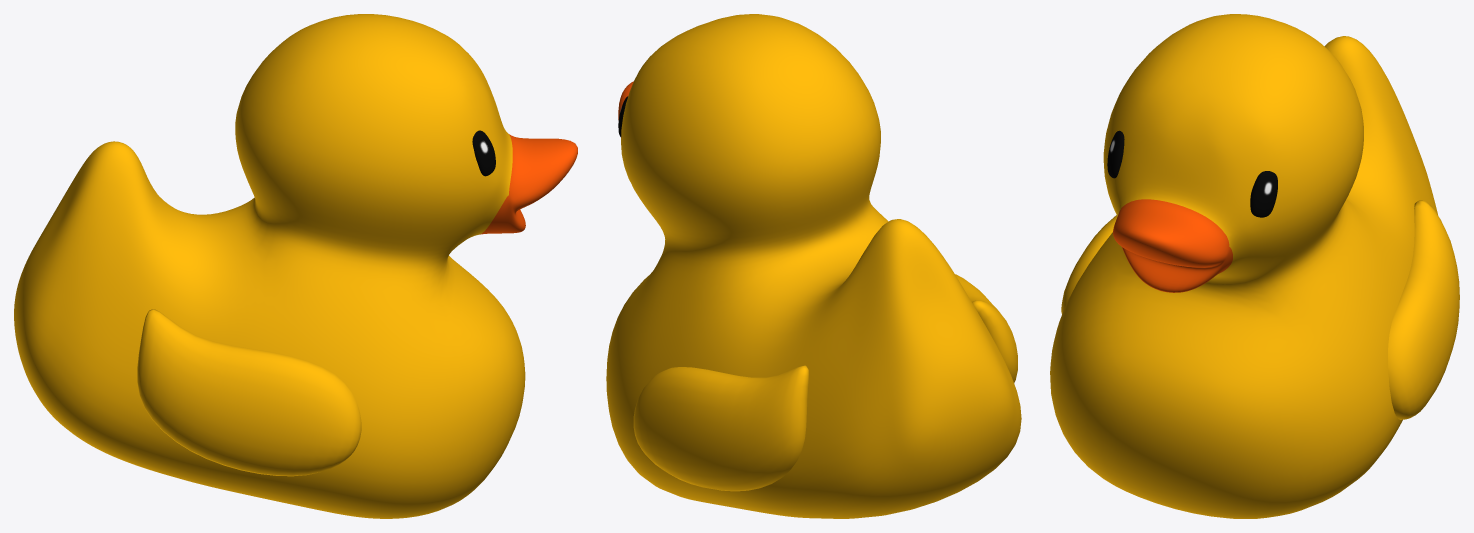
File: rubber-duck.glb
The picture shows the model from 3 angles, left to right: view 1: azimuth 30°, elevation 25°; view 2: azimuth 150°, elevation 25°; view 3: azimuth 270°, elevation 25°; orthographic projection.
Visible parts, largest first — view 1: Cube.001_0, Cube_1, Cube.002_2; view 2: Cube.001_0, Cube_1; view 3: Cube.001_0, Cube_1, Cube.002_2.
Part boxes in pixels (left/top/right/bottom): Cube.001_0: left=14, top=14, right=577, bottom=518; Cube_1: left=137, top=309, right=361, bottom=476; Cube.002_2: left=472, top=130, right=495, bottom=176; Cube.001_0: left=606, top=14, right=1021, bottom=518; Cube_1: left=633, top=274, right=1017, bottom=491; Cube.001_0: left=1050, top=14, right=1437, bottom=518; Cube_1: left=1061, top=200, right=1459, bottom=419; Cube.002_2: left=1107, top=130, right=1277, bottom=217.
Bounding box in the file's own units: 0.0628 × 0.0594 × 0.0474.
Materials: 3 (1 with a texture image).
